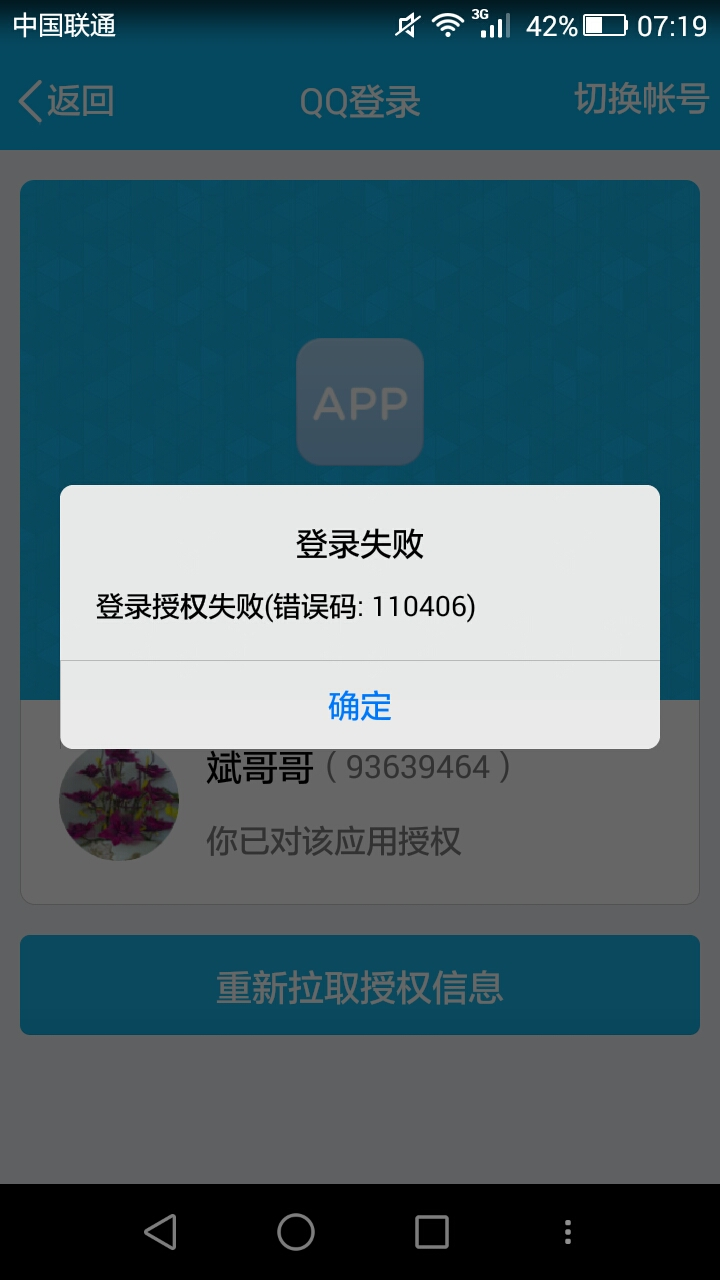alert: (58, 472, 666, 752)
button: (14, 921, 702, 1040)
